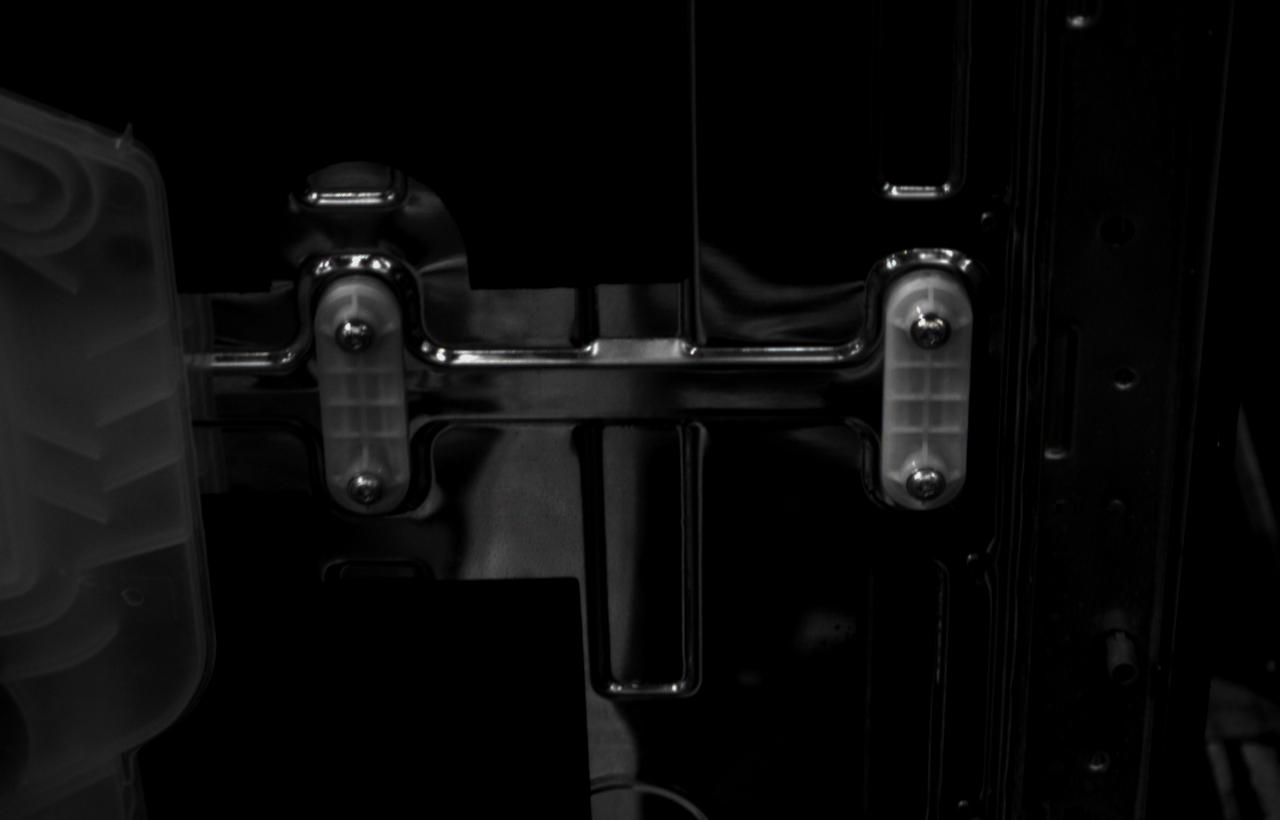vida-ok: (909, 310, 952, 353), (905, 466, 949, 504), (333, 317, 375, 356), (345, 471, 387, 507)
